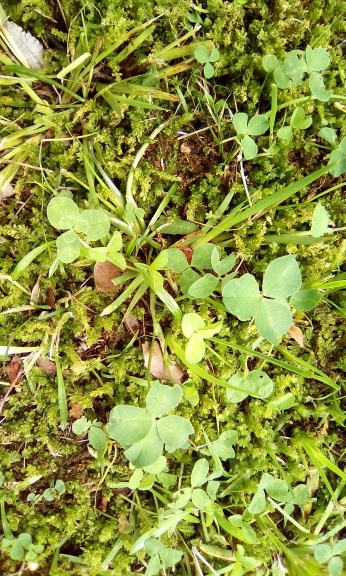4leaf: (106, 381, 194, 468)
